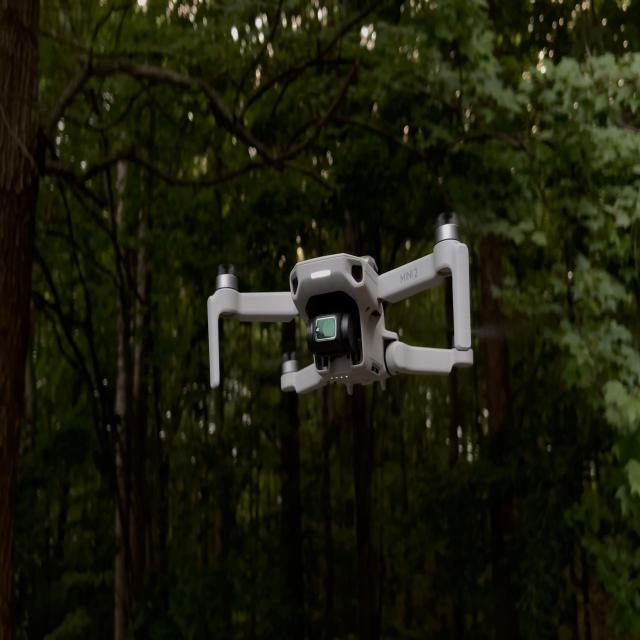Drone: (202, 223, 478, 403)
